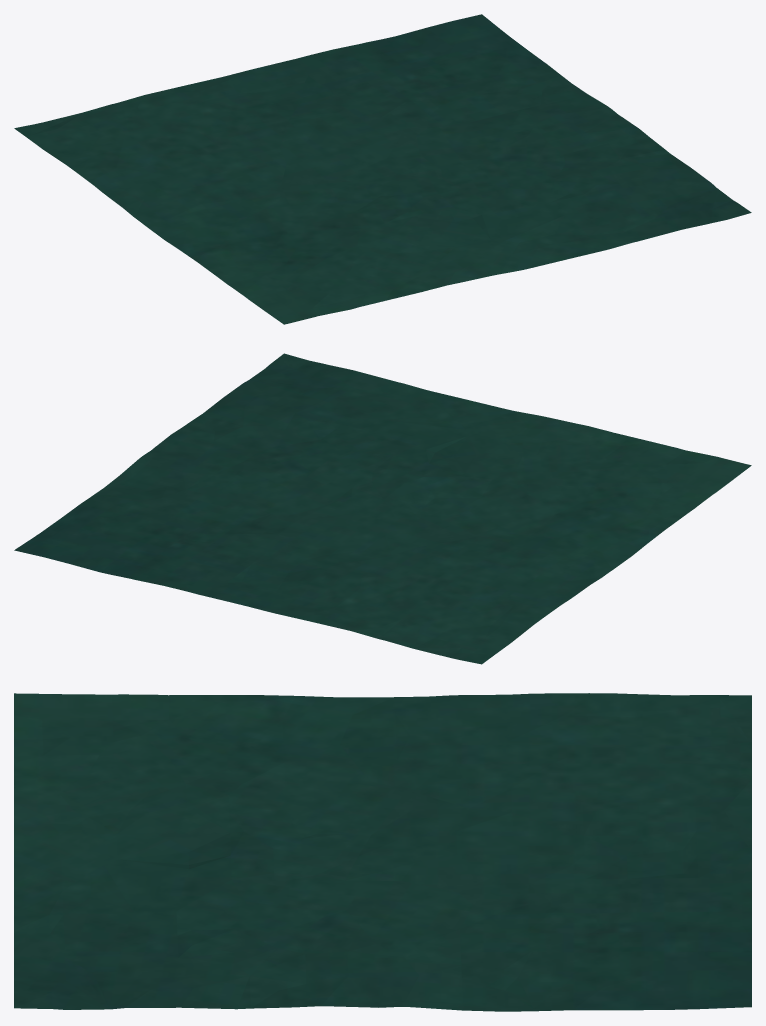
The picture shows the model from 3 angles, top to bottom: view 1: azimuth 30°, elevation 25°; view 2: azimuth 150°, elevation 25°; view 3: azimuth 270°, elevation 25°; orthographic projection. The views are drawn at different scales.
Size of the model in its own units: 52.22 by 0.6169 by 52.22.
2 materials, 2 textured.
